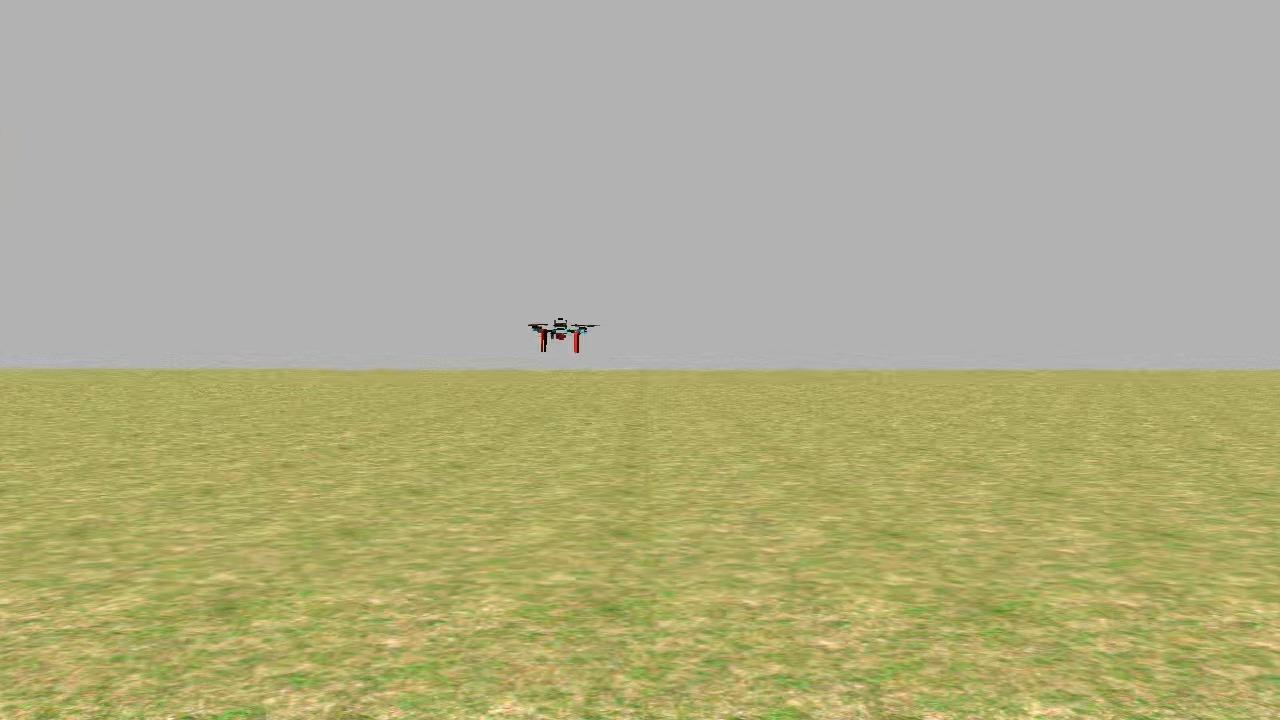UAV: (526, 310, 592, 362)
